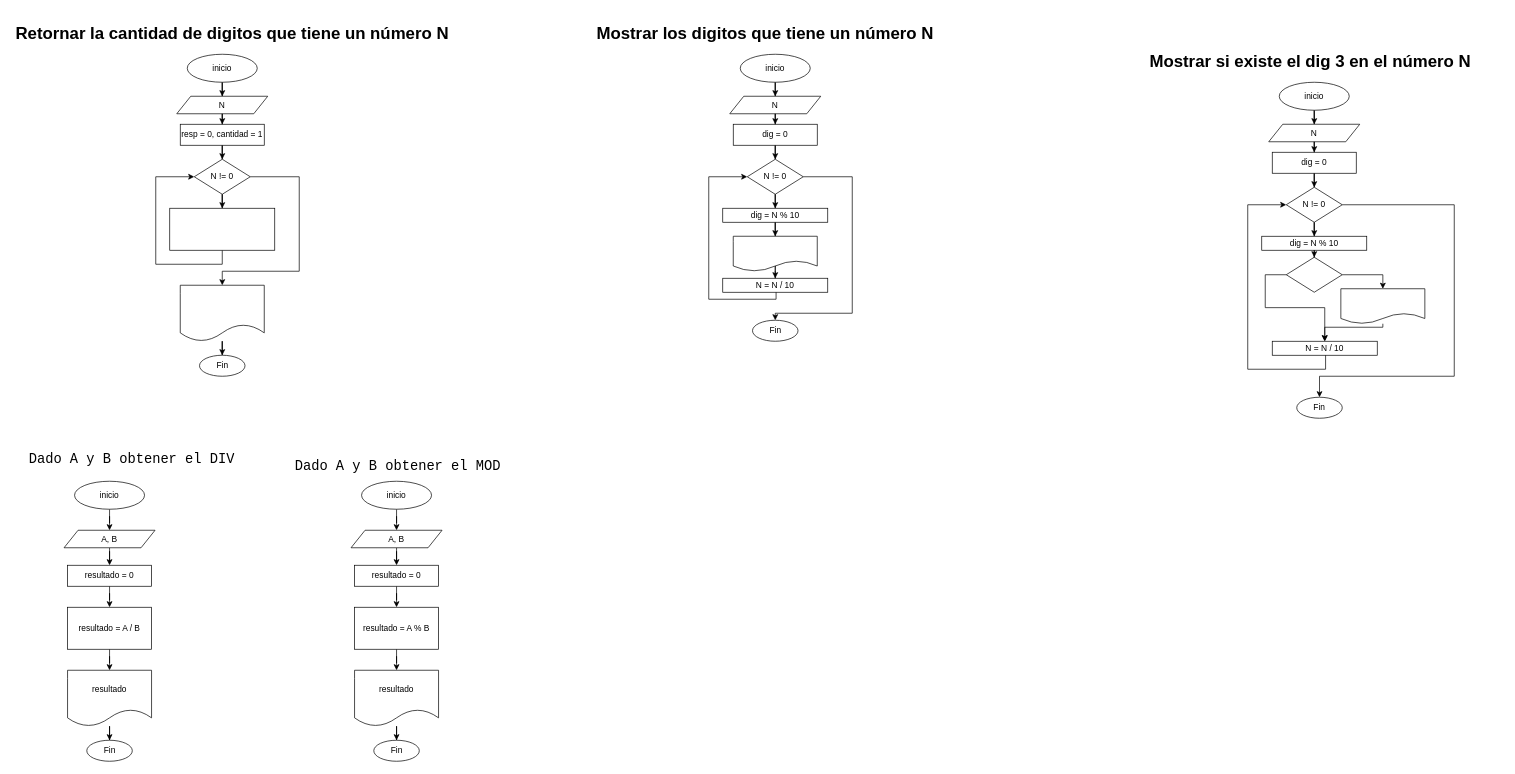
Image size: 1515x774. Some labels were removed from this diagram. Each missing label, with the box of its shape:
cantidad + "digitos": (180, 285, 264, 341)
dig: (733, 236, 817, 271)
dig == 3: (1286, 257, 1342, 292)
Existe el dig 3: (1340, 288, 1425, 324)
N = N / 10 cantidad = cantidad + 1: (169, 208, 275, 250)
